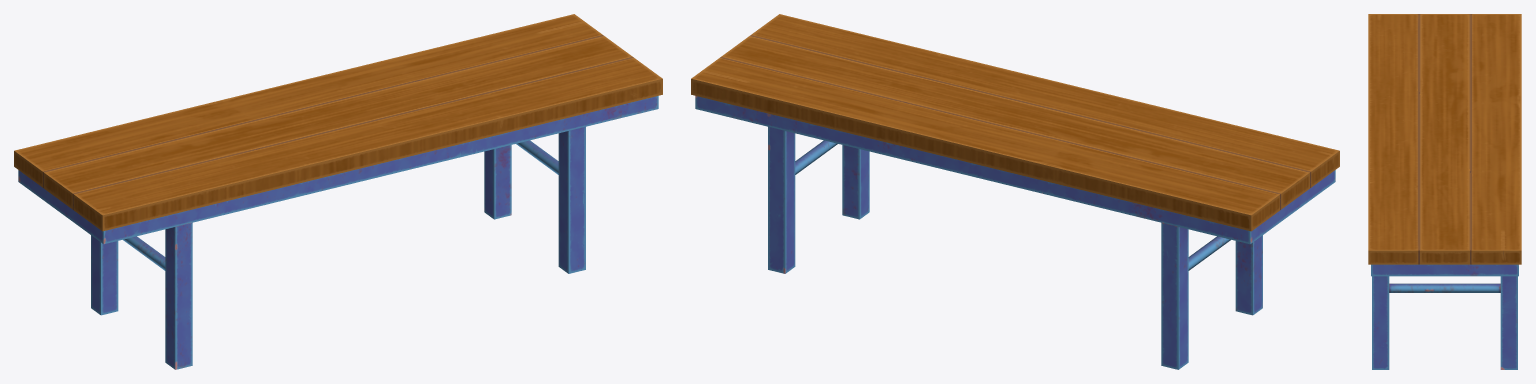
The model's file is simple_bench.gltf.
3 renders of one model, left to right at view 1: azimuth 30°, elevation 25°; view 2: azimuth 150°, elevation 25°; view 3: azimuth 270°, elevation 25°, orthographic. The views are drawn at different scales.
Visible parts, largest first — view 1: Wood, Basis; view 2: Wood, Basis; view 3: Wood, Basis.
Boxes of the visible parts, bbox=[...] form: Wood: bbox=[14, 14, 662, 231]; Basis: bbox=[18, 96, 658, 369]; Wood: bbox=[691, 14, 1339, 231]; Basis: bbox=[695, 96, 1335, 369]; Wood: bbox=[1368, 14, 1521, 264]; Basis: bbox=[1371, 264, 1518, 369].
Size of the model in its own units: 1.51 by 0.45 by 0.4139.
1 material, 1 textured.
